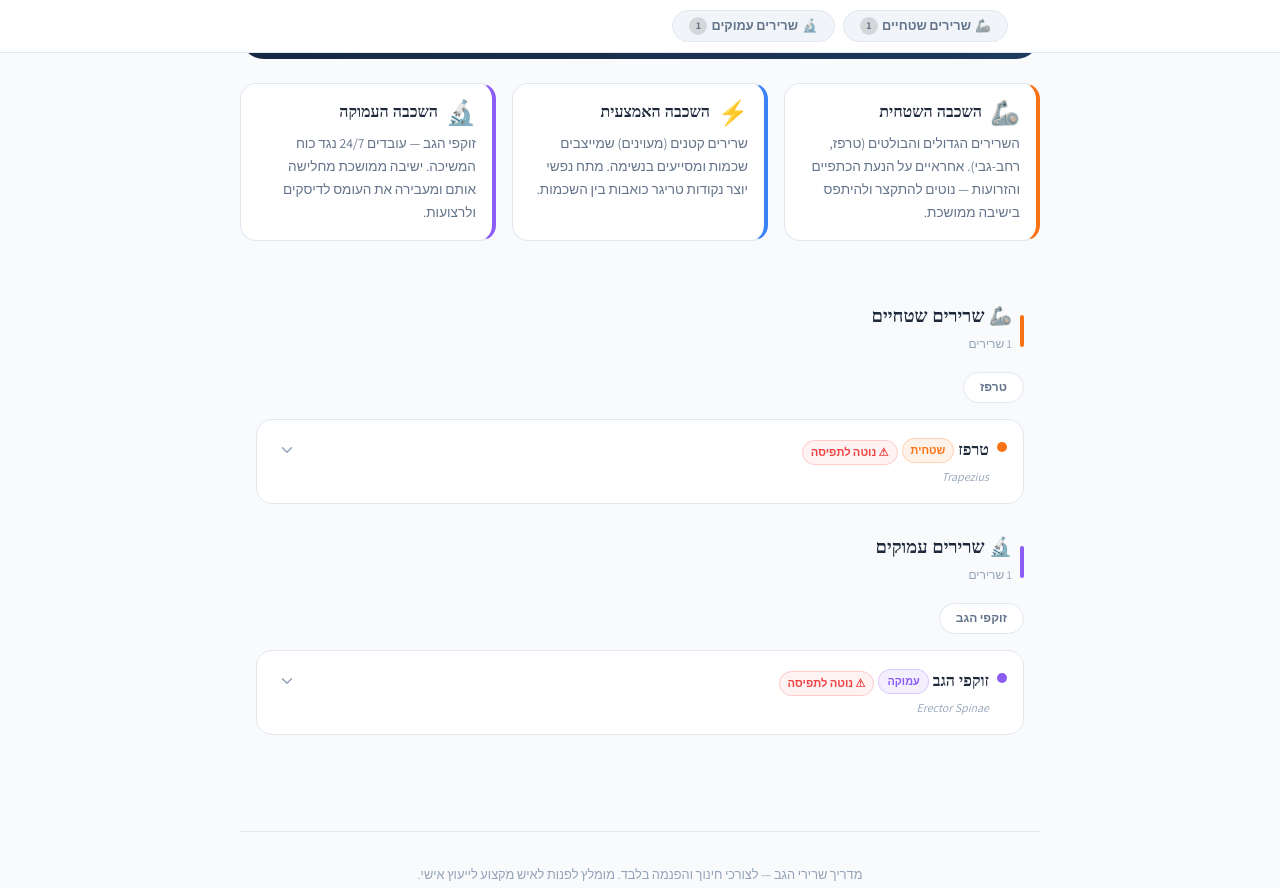
Test: MuscleCard — stretch section › stretch section heading is visible after expanding
(page scrolled)
Click the heading "טרפז" at coordinates (974, 450), box x1=958 y1=440 x2=989 y2=461
(page scrolled)
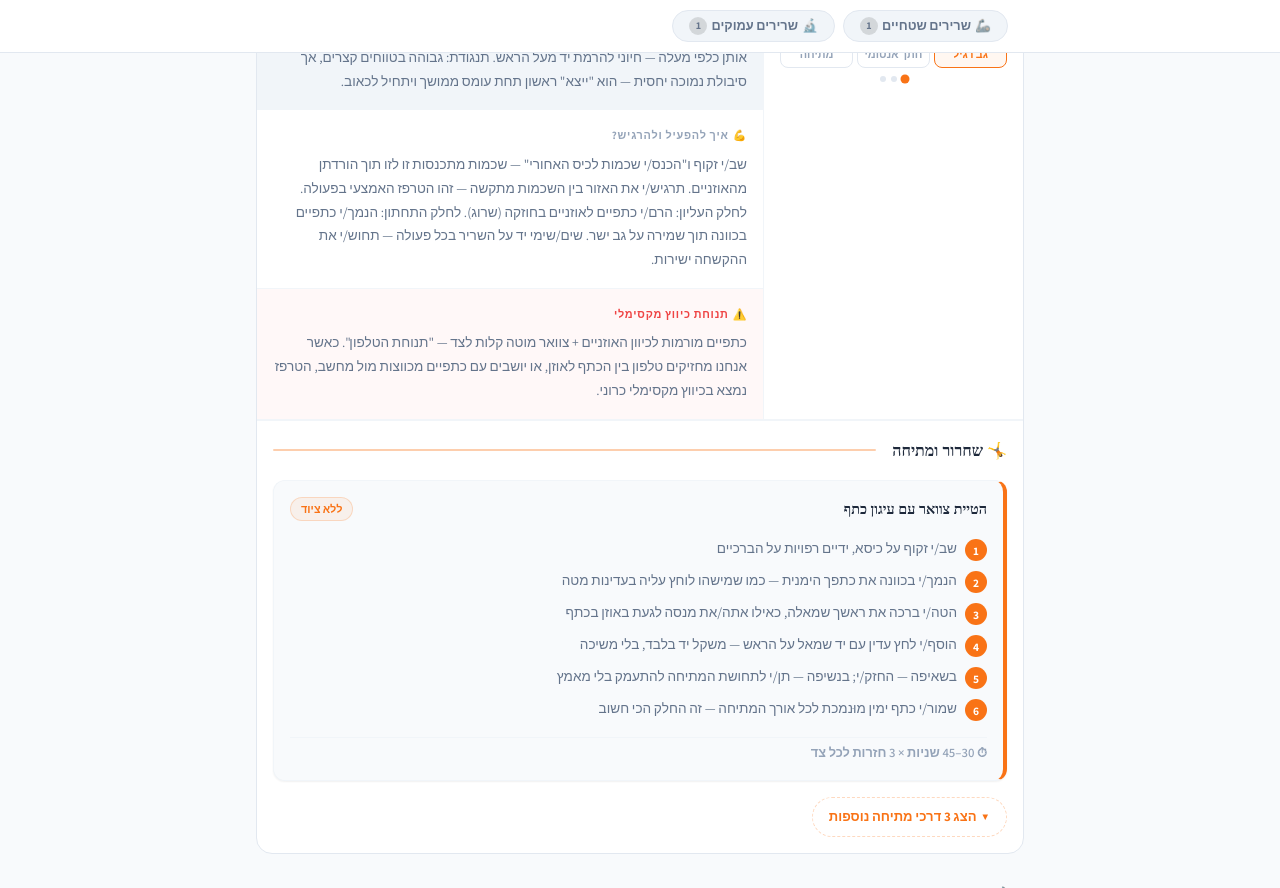
Check: the heading "🤸 שחרור ומתיחה" is shown, box x1=892 y1=437 x2=1007 y2=464
